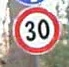limite 30: (11, 6, 60, 55)
